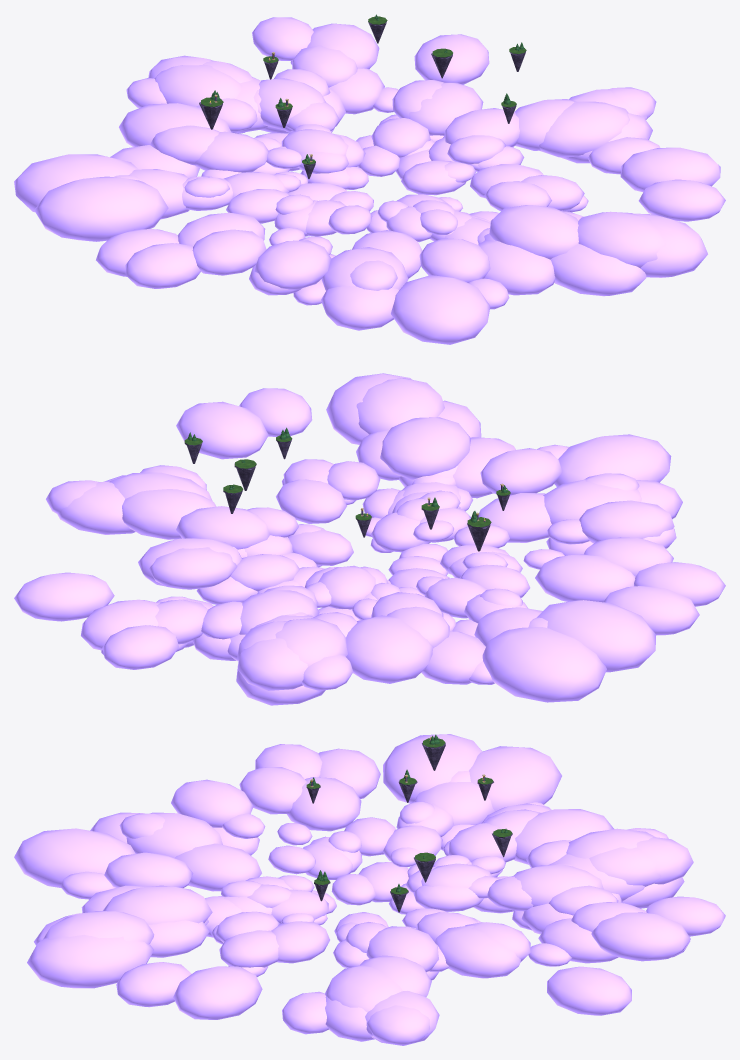
File: Fondo_Isla.fbx
3 views of the same model, one above another, from view 1: azimuth 30°, elevation 25°; view 2: azimuth 150°, elevation 25°; view 3: azimuth 270°, elevation 25° (orthographic). The views are drawn at different scales.
Visible parts, largest first — view 1: Fondo_Nubes; view 2: Fondo_Nubes; view 3: Fondo_Nubes.
Boxes of the visible parts, left/top/right/bottom form: Fondo_Nubes: left=14, top=17, right=725, bottom=344; Fondo_Nubes: left=14, top=373, right=725, bottom=705; Fondo_Nubes: left=14, top=734, right=725, bottom=1045.
Size of the model in its own units: 400 by 83.57 by 414.
